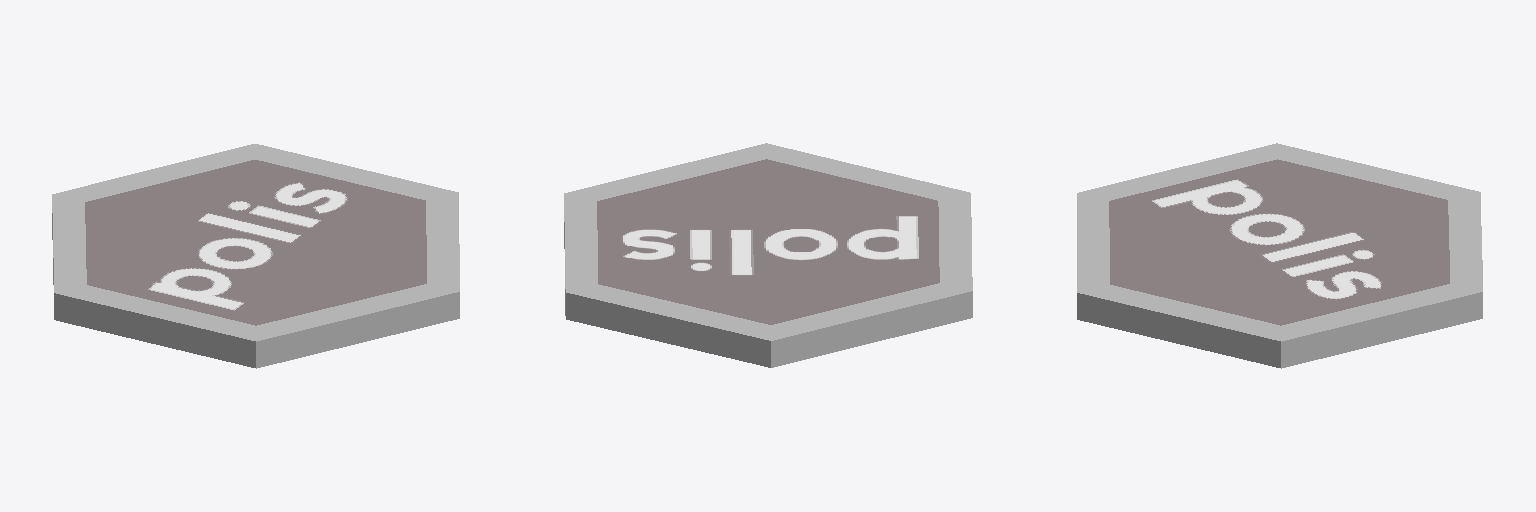
3 views of the same model, side by side, from view 1: azimuth 30°, elevation 25°; view 2: azimuth 150°, elevation 25°; view 3: azimuth 270°, elevation 25° (orthographic).
Visible parts, largest first — view 1: Plane; view 2: Plane; view 3: Plane.
Boxes of the visible parts, <box> form: Plane: <box>52,144,459,368</box>; Plane: <box>564,143,972,367</box>; Plane: <box>1077,143,1482,368</box>.
Bounding box in the file's own units: 1.1 × 0.07 × 0.9553.
Materials: 3 (1 with a texture image).